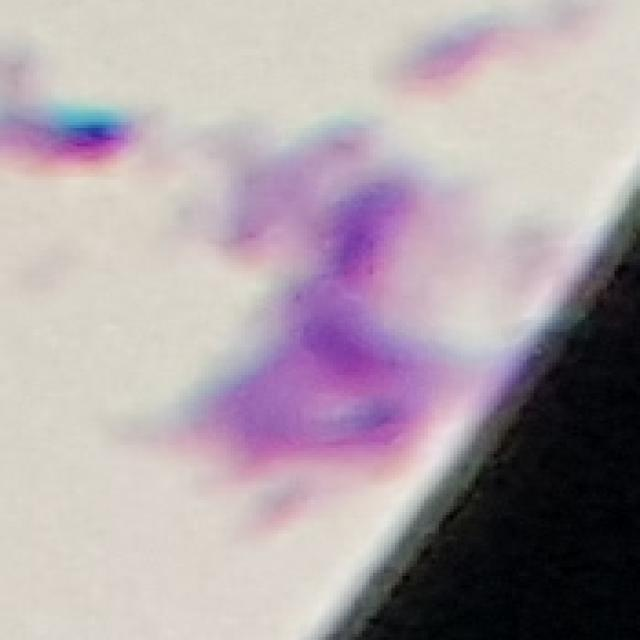non-sperm: (205, 127, 428, 477)
